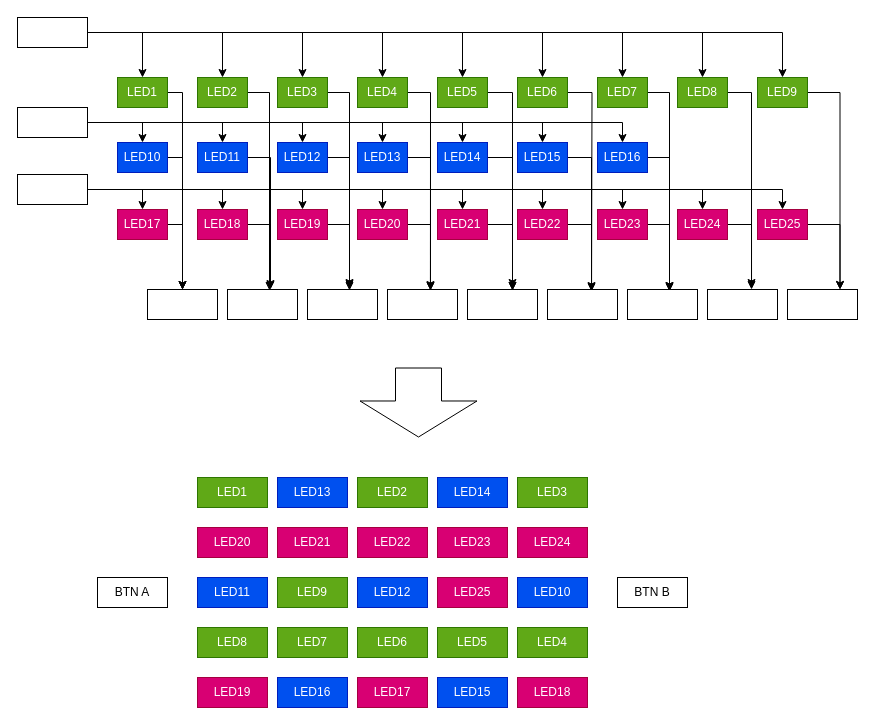
Some shapes in this 875 by 725 pixel diagram are drawn without their labels. The centre of each missing label's shape, as x and y in pixels:
COL1: pixel 182 304
COL2: pixel 262 304
COL3: pixel 342 304
COL4: pixel 422 304
COL5: pixel 502 304
COL6: pixel 582 304
COL7: pixel 662 304
COL8: pixel 742 304
COL9: pixel 822 304
ROW1: pixel 52 32
ROW2: pixel 52 122
ROW3: pixel 52 189
